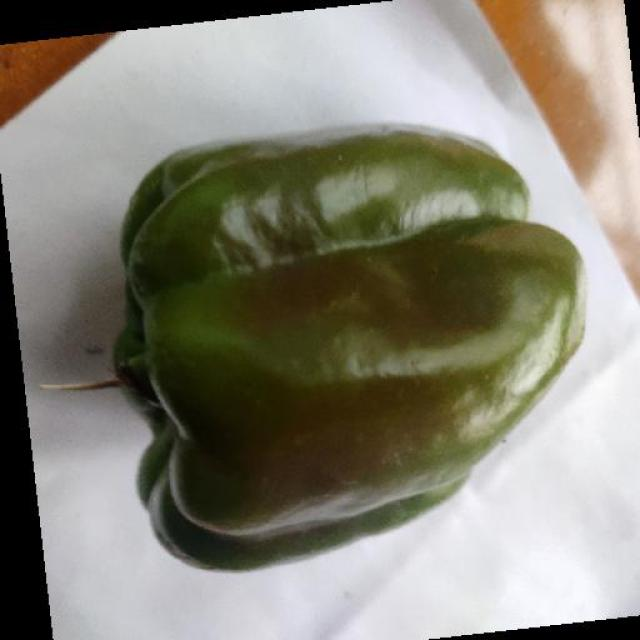Stale_Capsicum: (154, 146, 565, 535)
